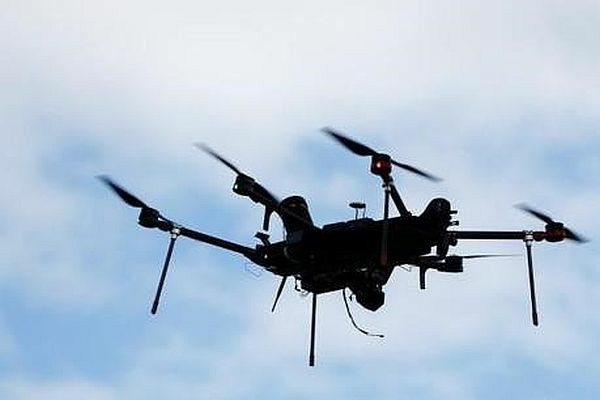maybay_khongnguoilai: (108, 139, 556, 320)
